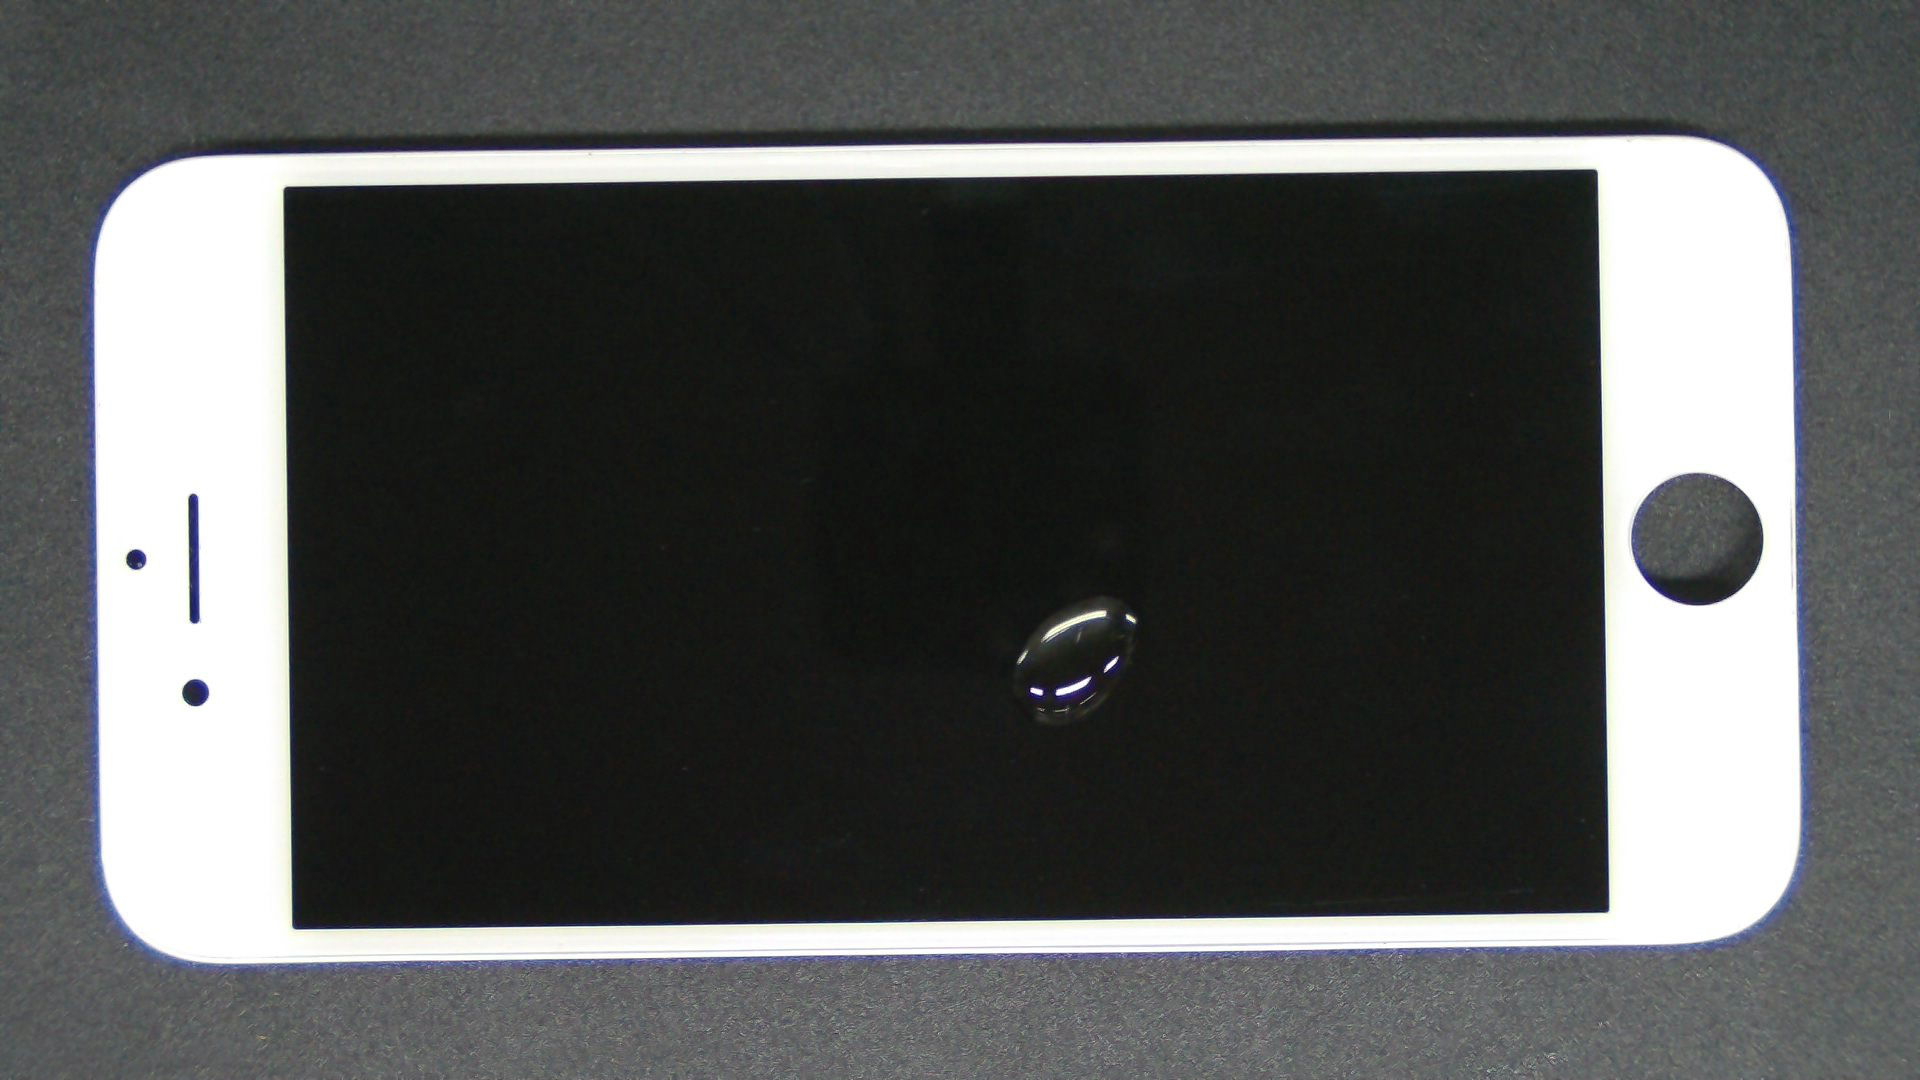oil: (550, 298, 1647, 895)
